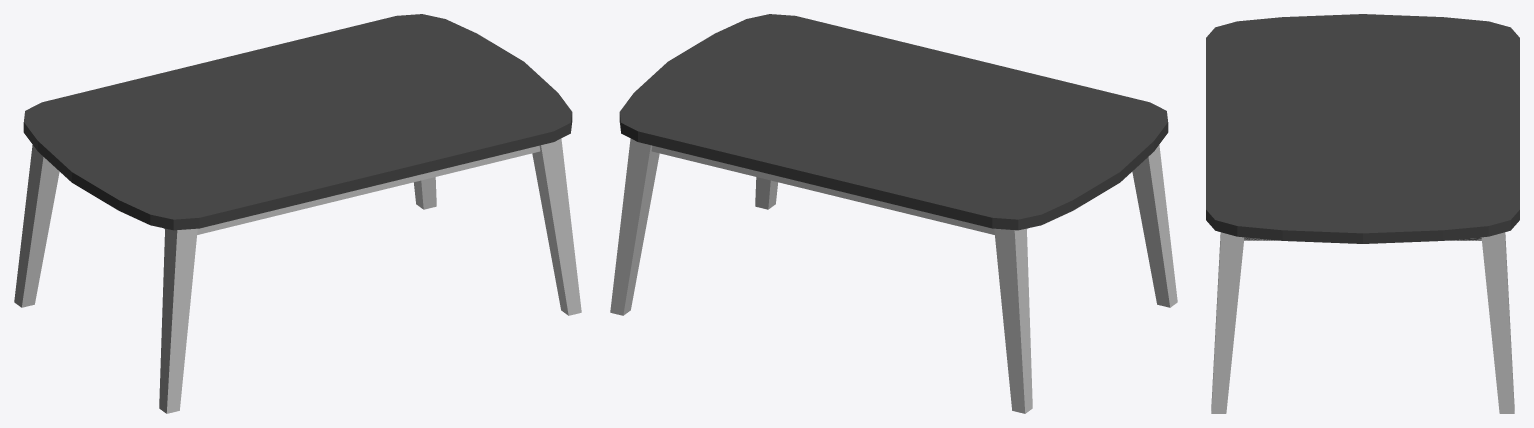
File: SM_Props_Furniture_01.fbx
The picture shows the model from 3 angles, left to right: view 1: azimuth 30°, elevation 25°; view 2: azimuth 150°, elevation 25°; view 3: azimuth 270°, elevation 25°; orthographic projection.
Parts seen in each view (by area): view 1: SM_Props_Furniture_01; view 2: SM_Props_Furniture_01; view 3: SM_Props_Furniture_01.
Boxes of the visible parts, bbox=[...] form: SM_Props_Furniture_01: bbox=[14, 14, 581, 413]; SM_Props_Furniture_01: bbox=[610, 14, 1177, 413]; SM_Props_Furniture_01: bbox=[1206, 14, 1519, 413].
Size of the model in its own units: 1.09 by 0.4391 by 0.6585.
